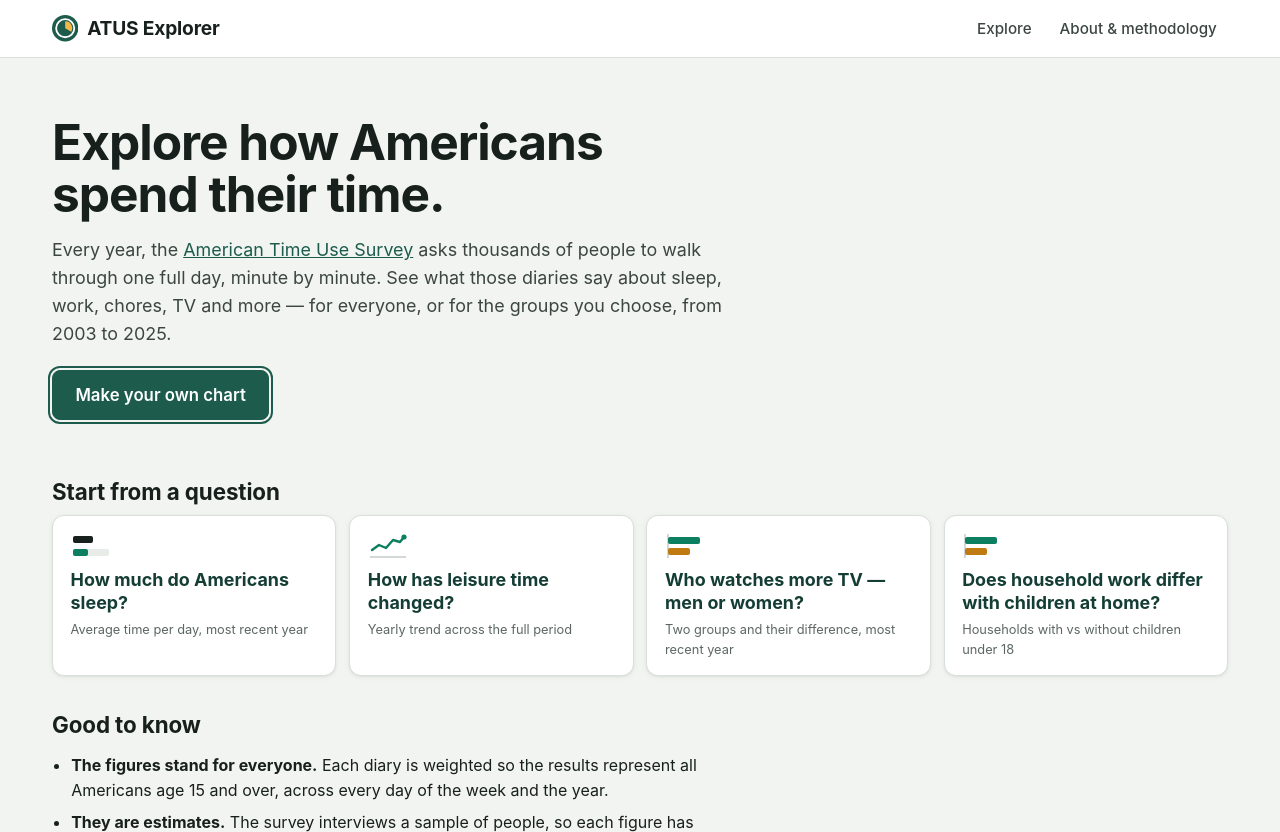
Test case: focus after in-app navigation (review round 2) › moves focus to the new page’s heading, Home → Explore → result
Press Enter
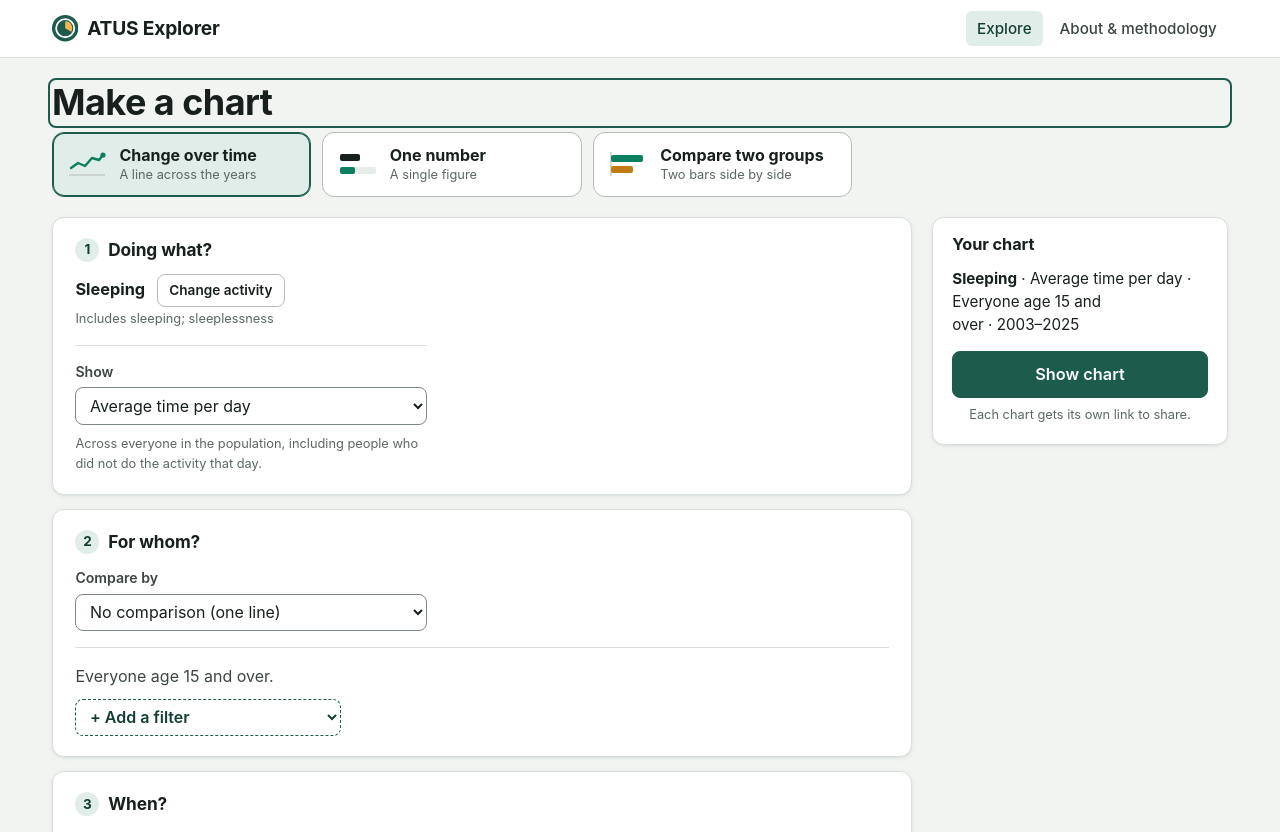
Note: One number: the builder opens on a trend (review round 4).
Click the radio button labelled "One number". click: (452, 164)
box: [322, 132, 582, 197]
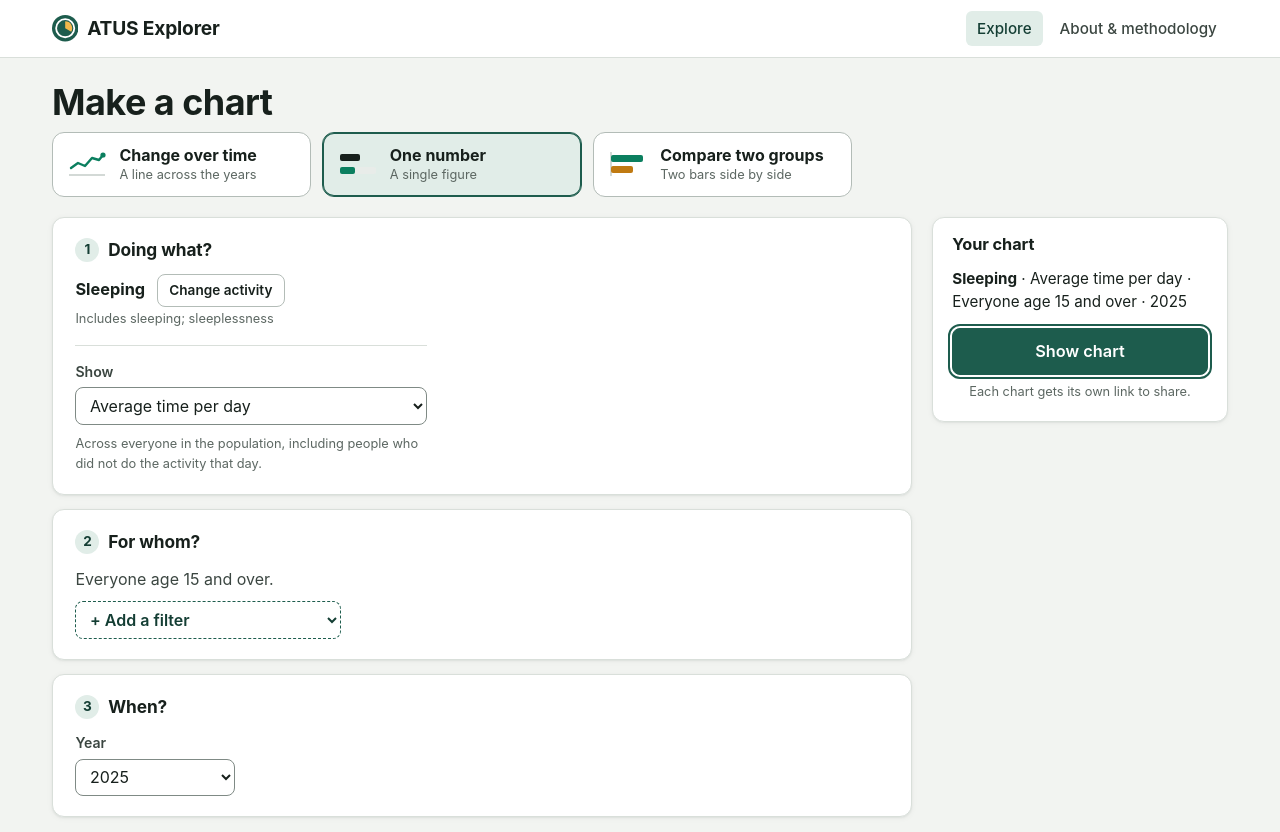
Press Enter
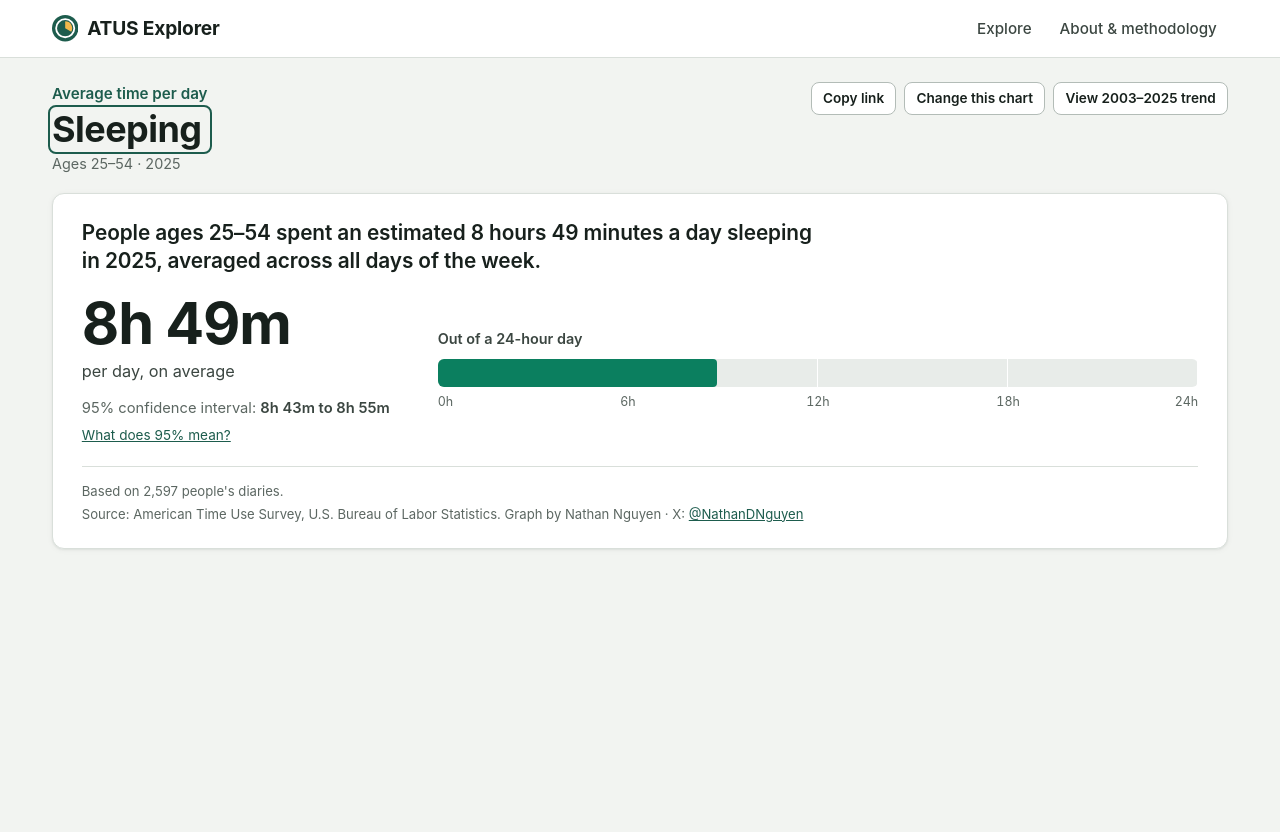
expect the heading reads "Sleeping": met, box [52, 107, 202, 151]
